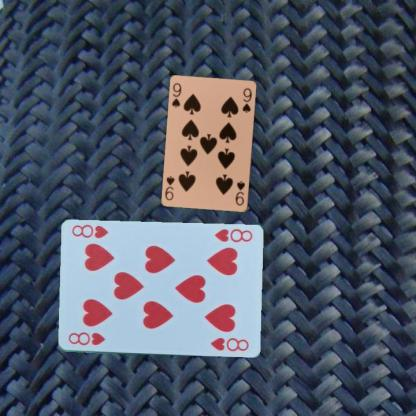8h: (211, 226, 254, 244), (66, 330, 106, 347)
9s: (169, 81, 183, 109), (233, 178, 246, 207)
